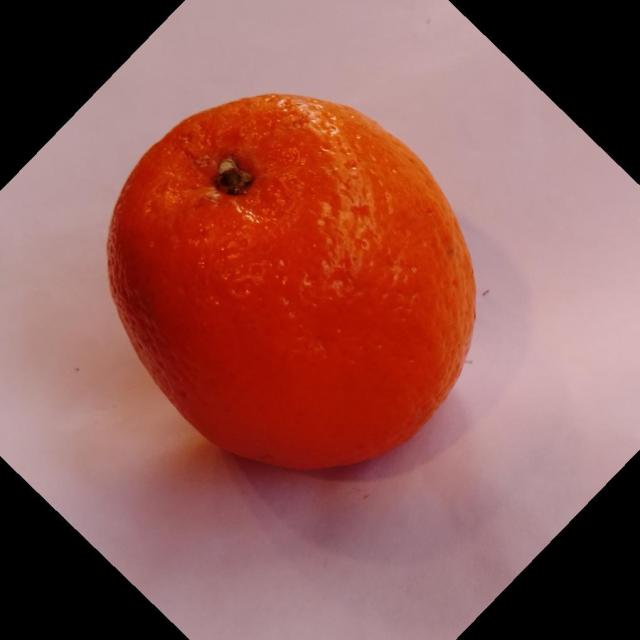fresh orange: (105, 92, 477, 471)
